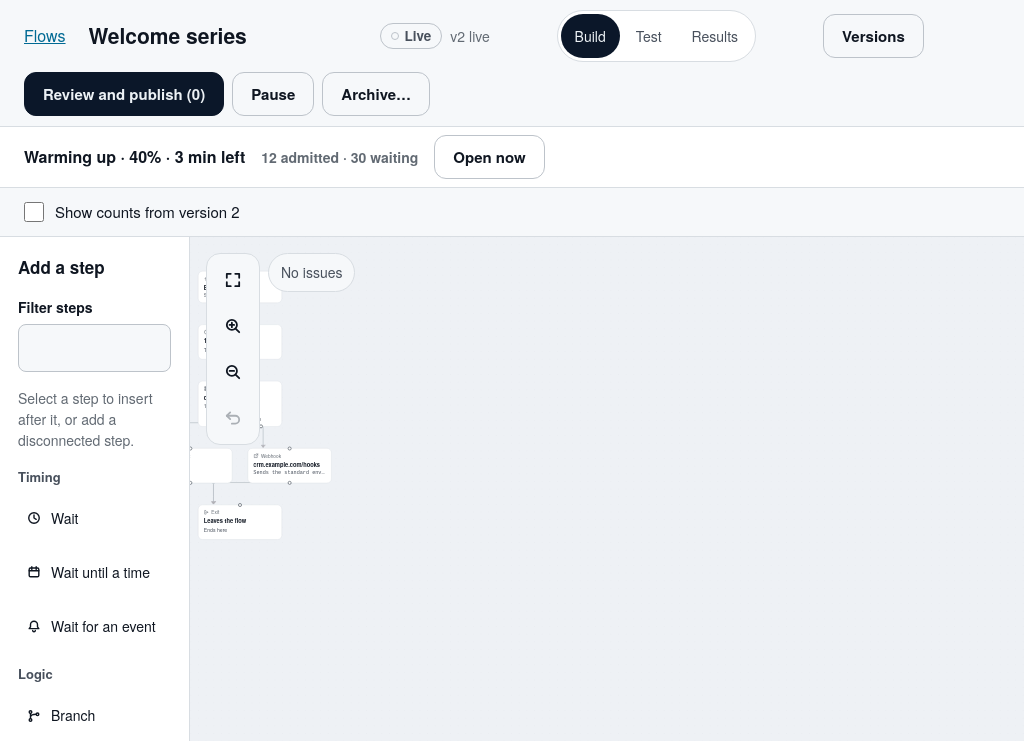
it: the warm-up state line › lets an admin open the flow now, after asking
Click the button "Open now".
click(490, 157)  # box top-left (434, 135), bottom-right (545, 179)
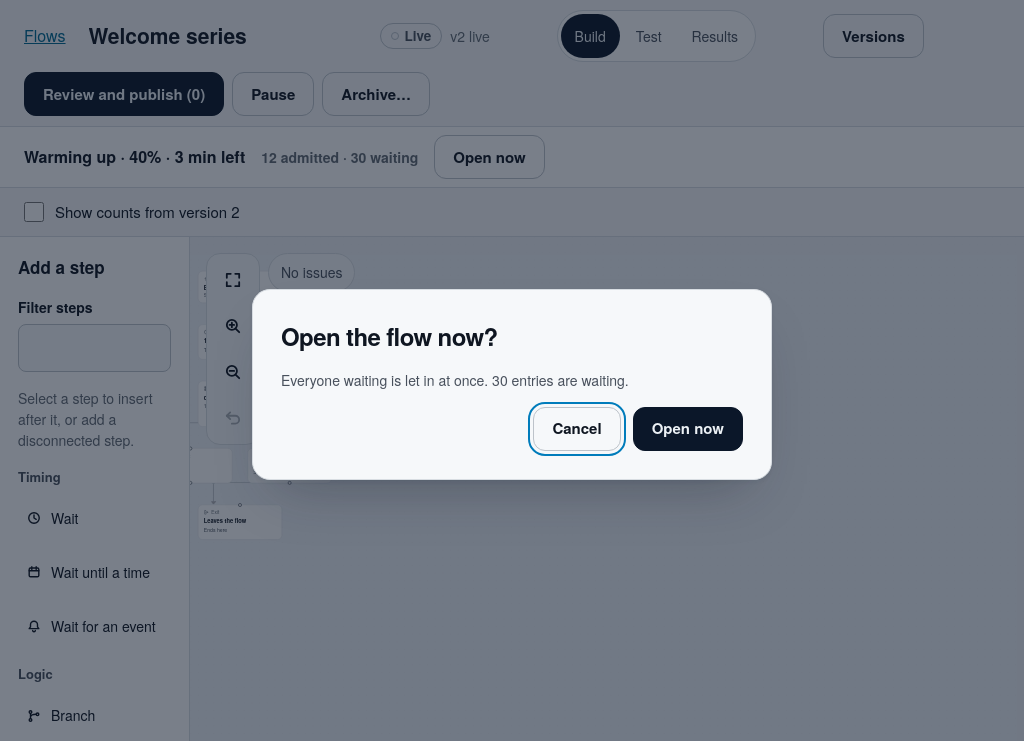
Click the button "Open now".
click(688, 428)  # box top-left (633, 406), bottom-right (743, 450)
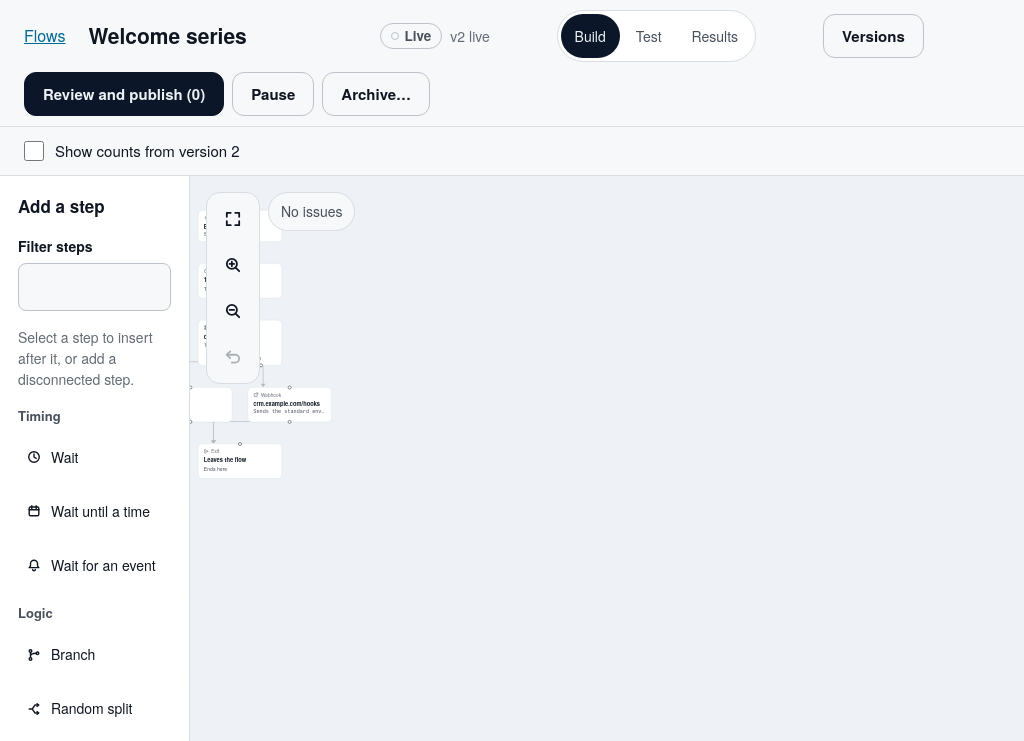
Check: the text "Warming up" is gone
